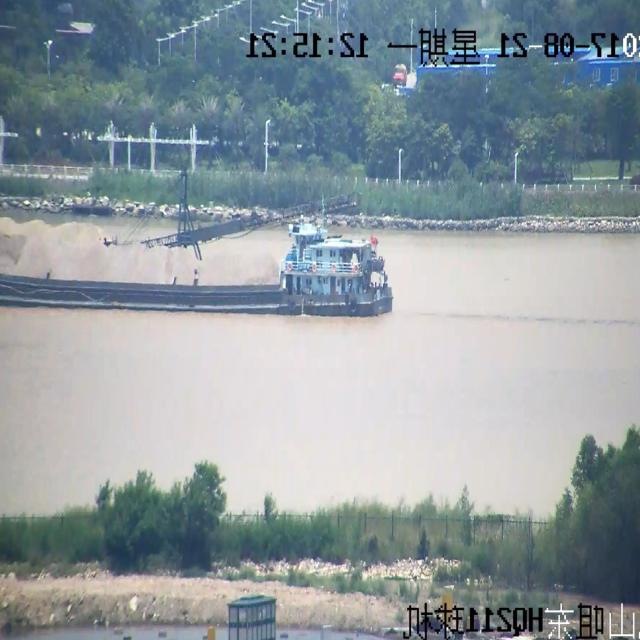cargoship: (0, 154, 396, 310)
